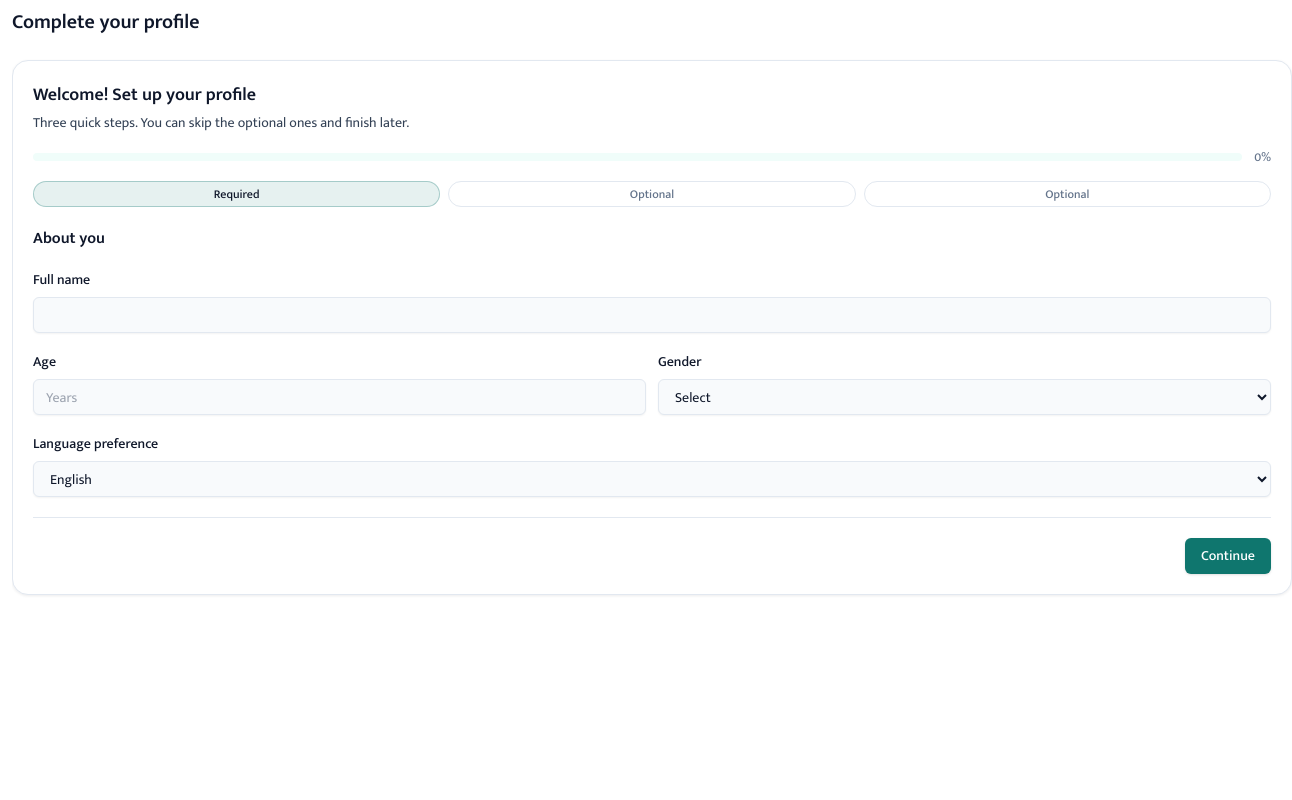
Test case: profile complete page (#488) › stays on the page with the bilingual save error when the write fails
In the field with test id "pc-fullname": x=652, y=315 [33, 297, 1271, 333], type "Asha Devi"
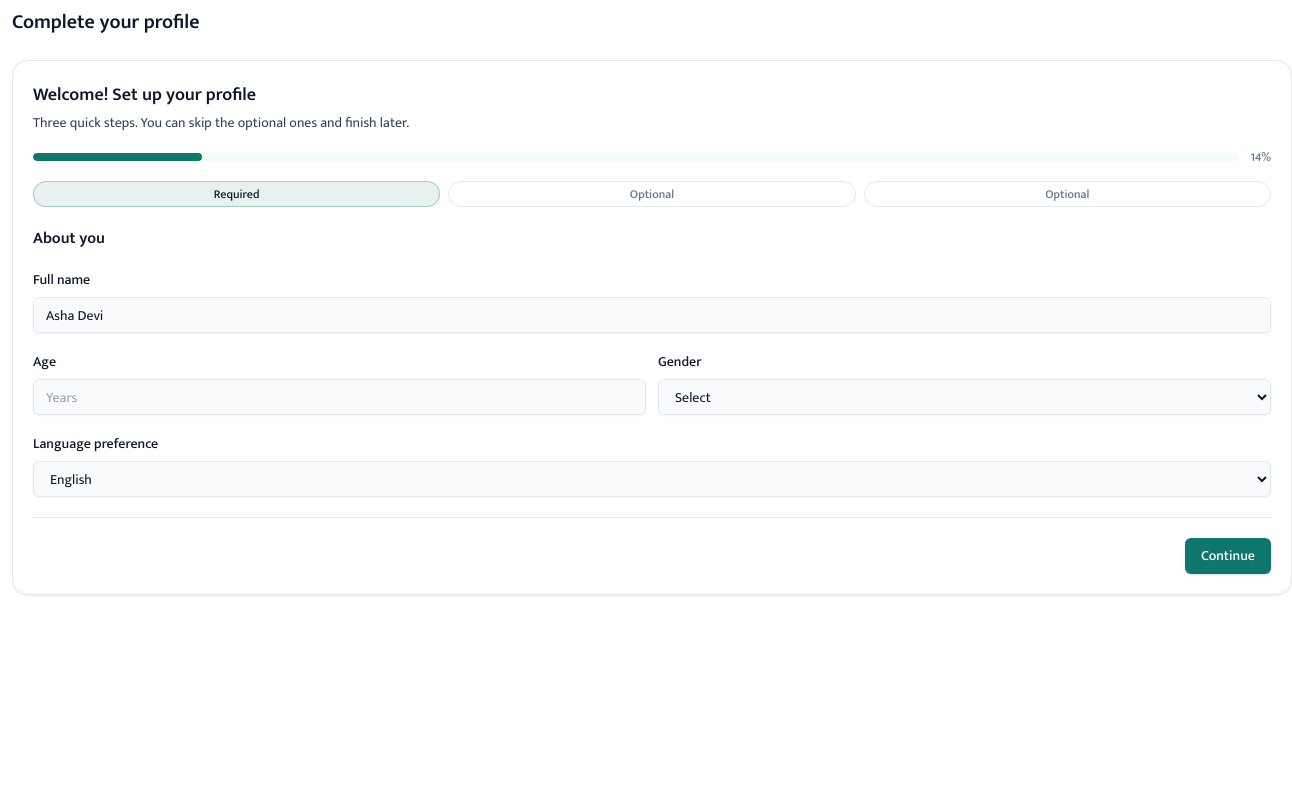
In the field with test id "pc-age": x=340, y=397 [33, 379, 646, 415], type "30"
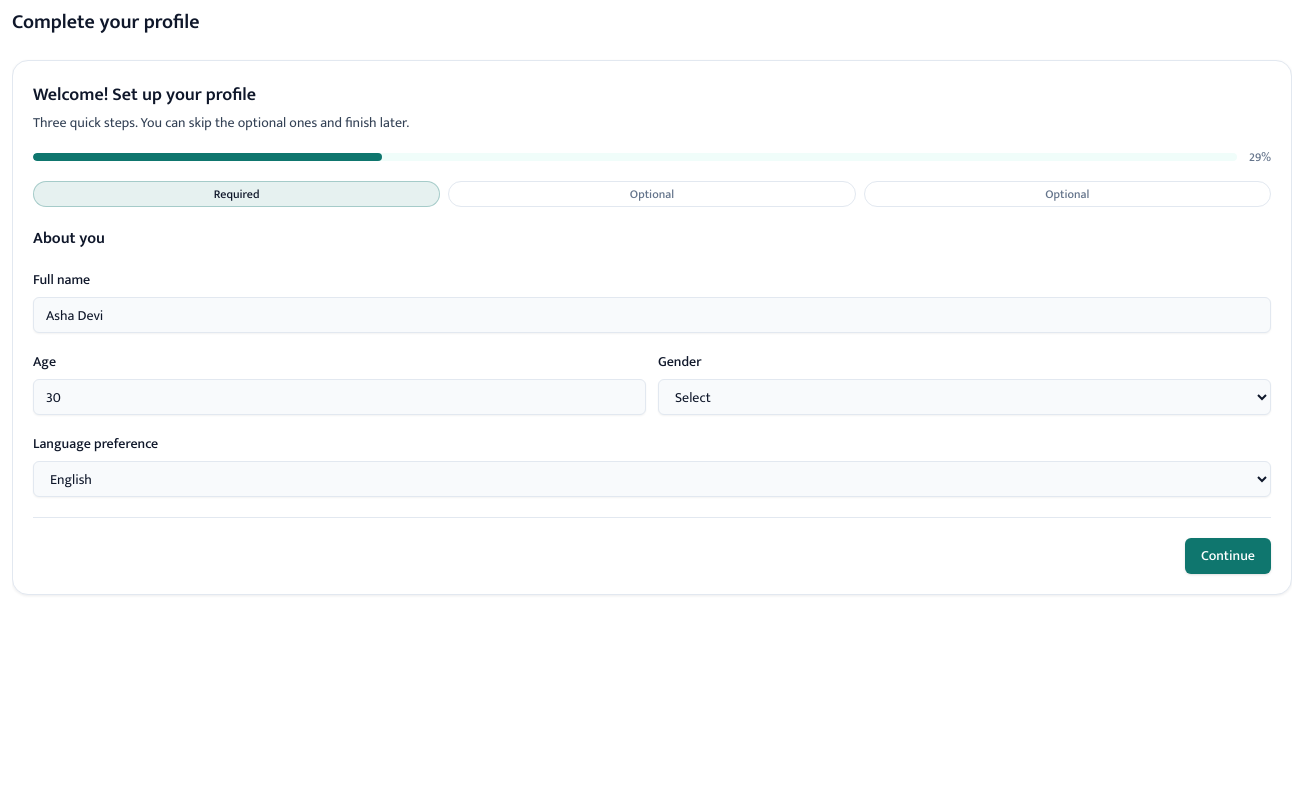
Select "Female" in the dropdown with test id "pc-gender": x=964, y=397 [658, 379, 1271, 415]
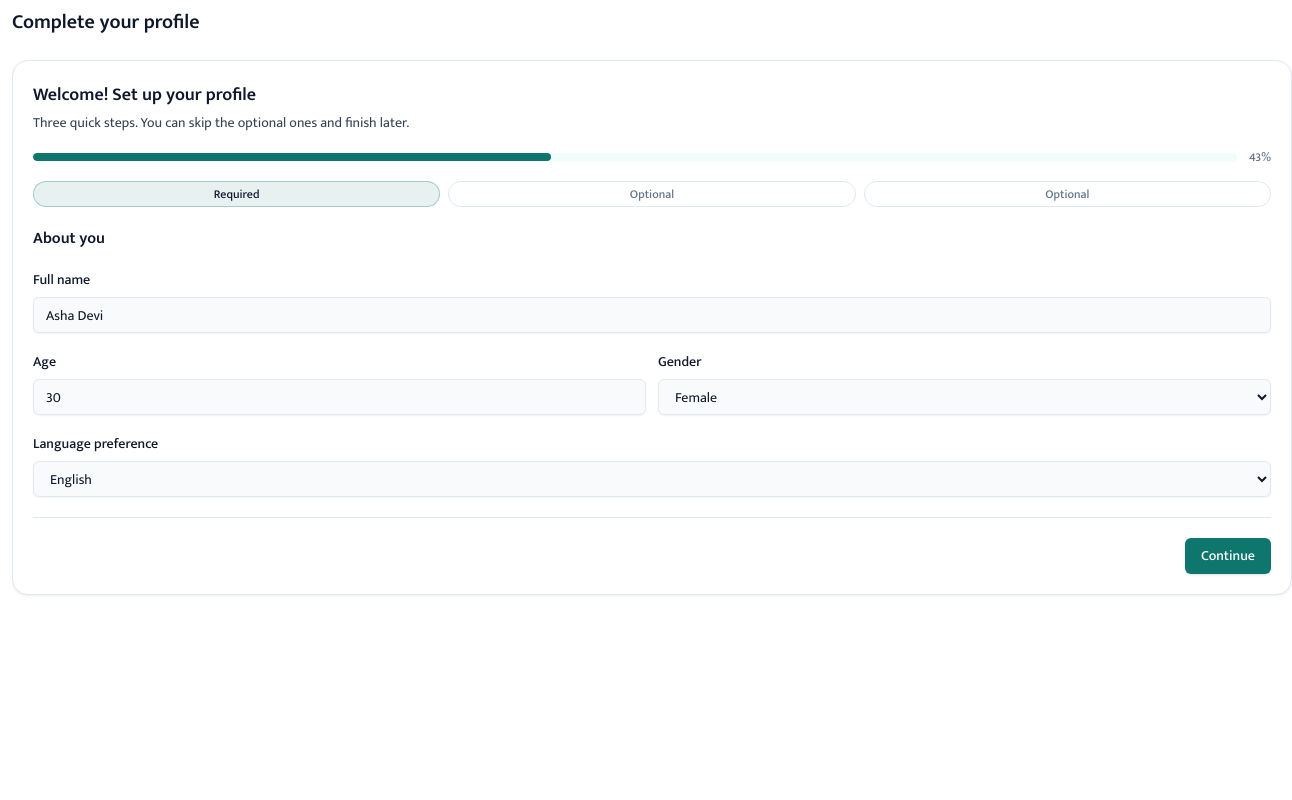
Click the button with test id "pc-next": x=1228, y=556 [1185, 538, 1271, 574]
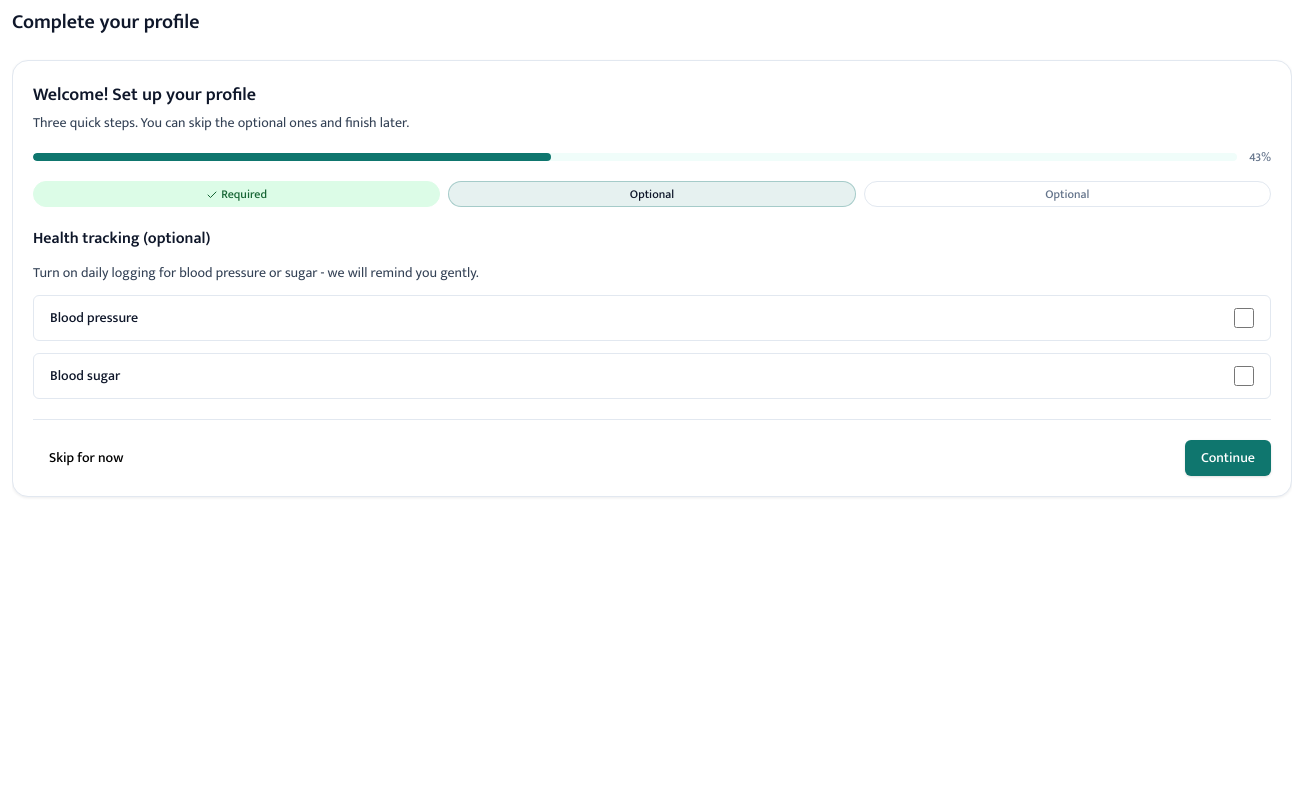
Click the button with test id "pc-skip": x=86, y=458 [33, 440, 139, 476]
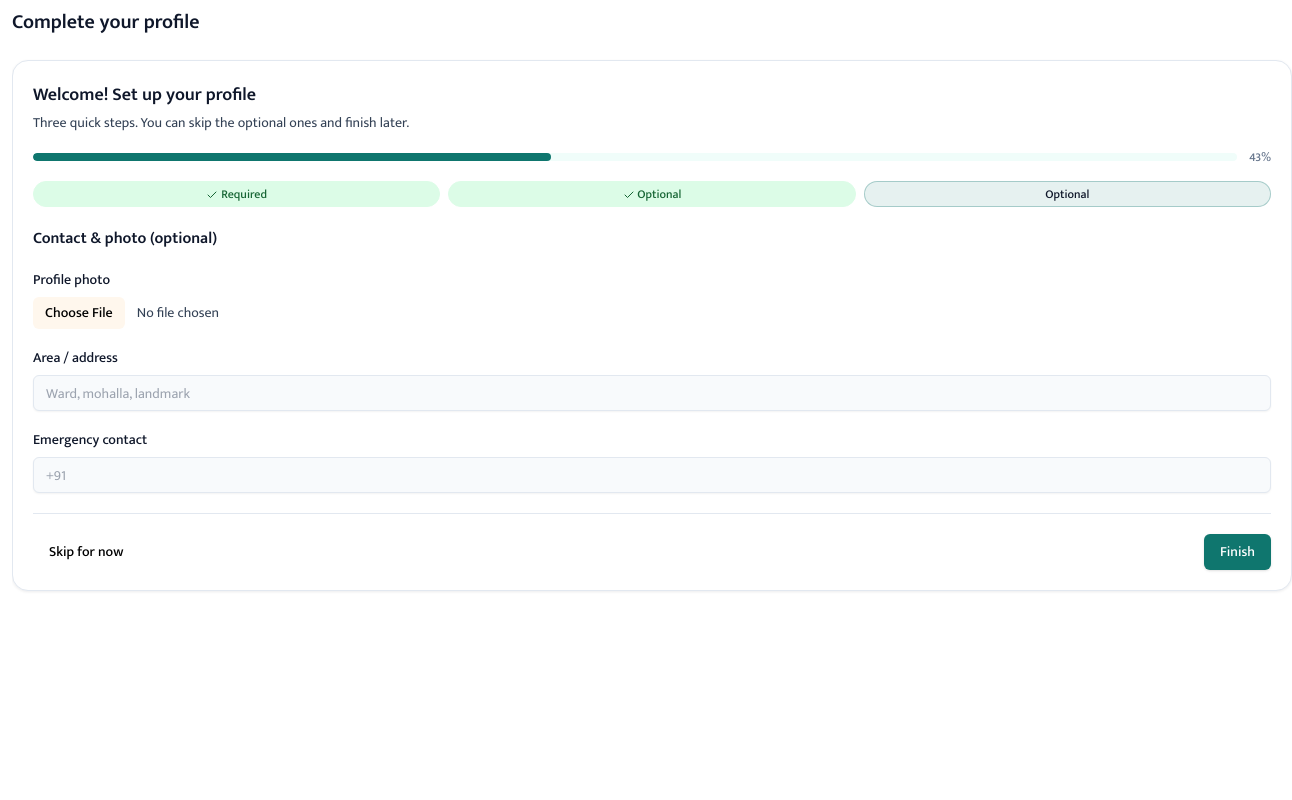
Click the button with test id "pc-next": x=1238, y=552 [1204, 534, 1271, 570]
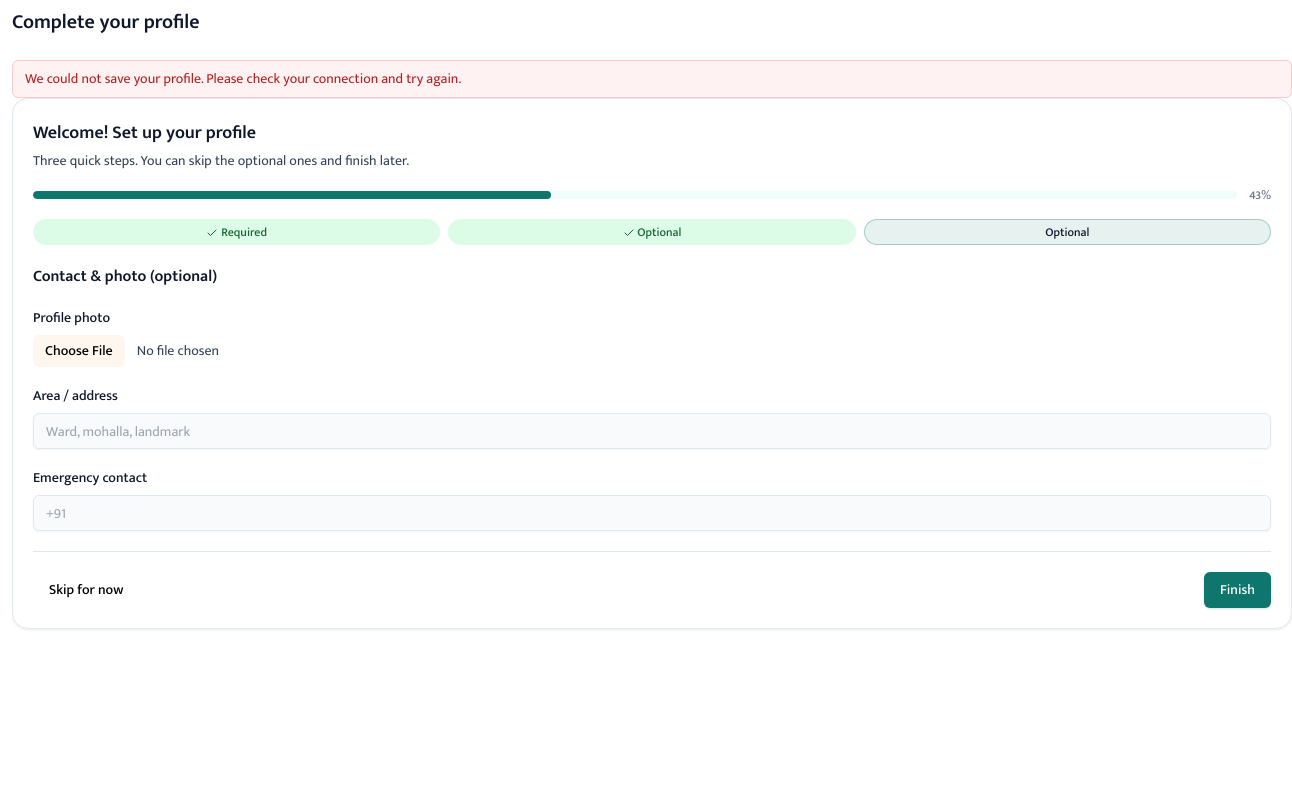
Now the text "We could not save your profile. Please check your connection and try again." is shown, box [12, 60, 1291, 98]
